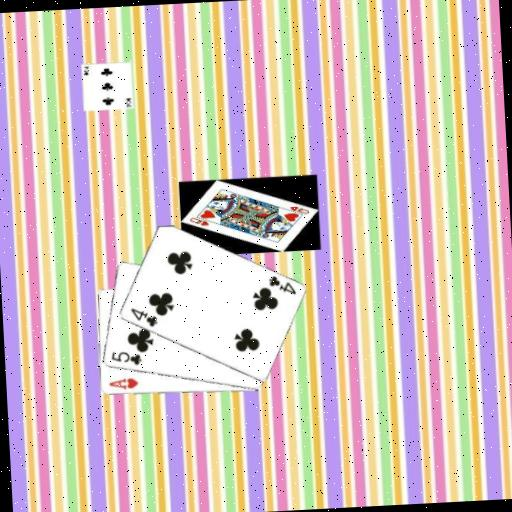4C: (265, 272, 298, 298), (127, 304, 159, 330)
5C: (107, 348, 143, 369)
AH: (106, 374, 140, 392)
